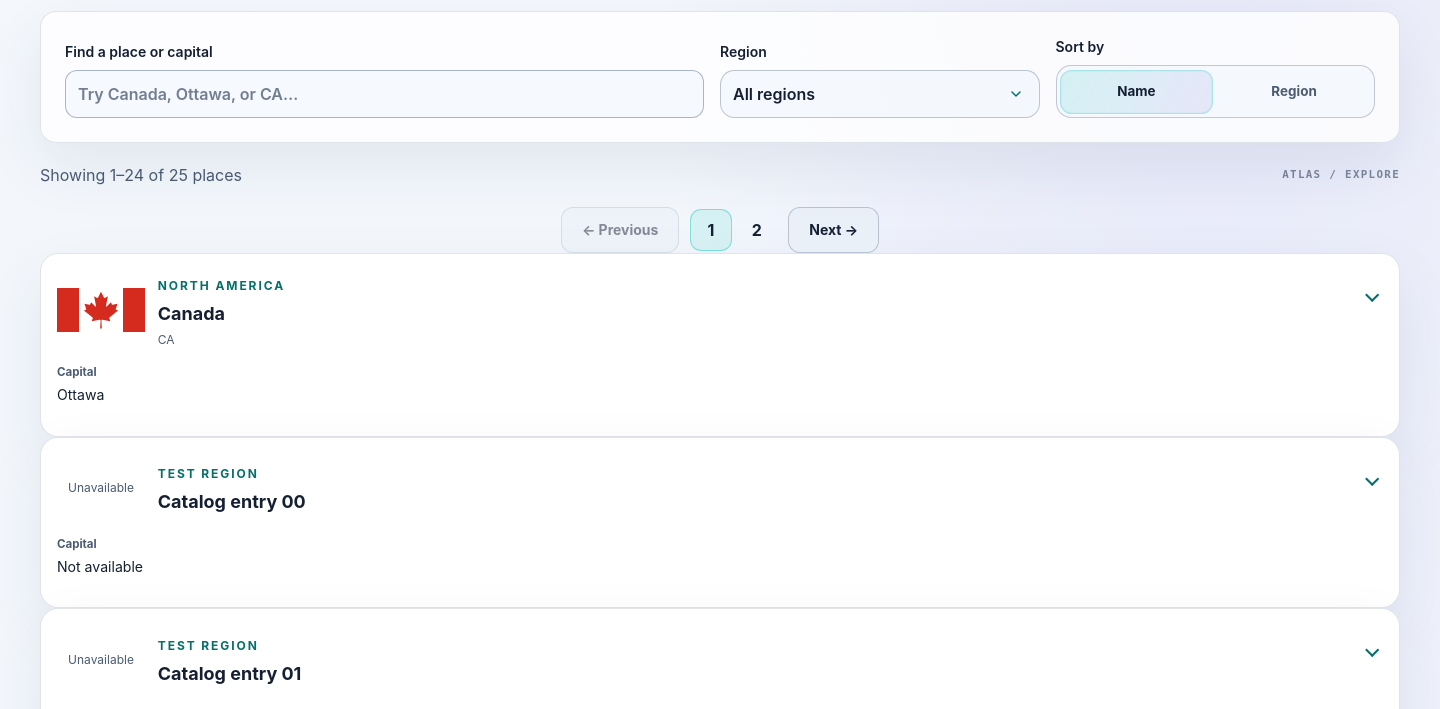
Test: resolves neighbor codes from the full catalog and navigates within Explorer
Expected: the text "Showing 1–24 of 25 places" is shown, x1=40 y1=163 x2=242 y2=187
Click the heading "North America Canada CA Capital Ottawa" at [171, 341], box x1=57 y1=278 x2=285 y2=403
(page scrolled)
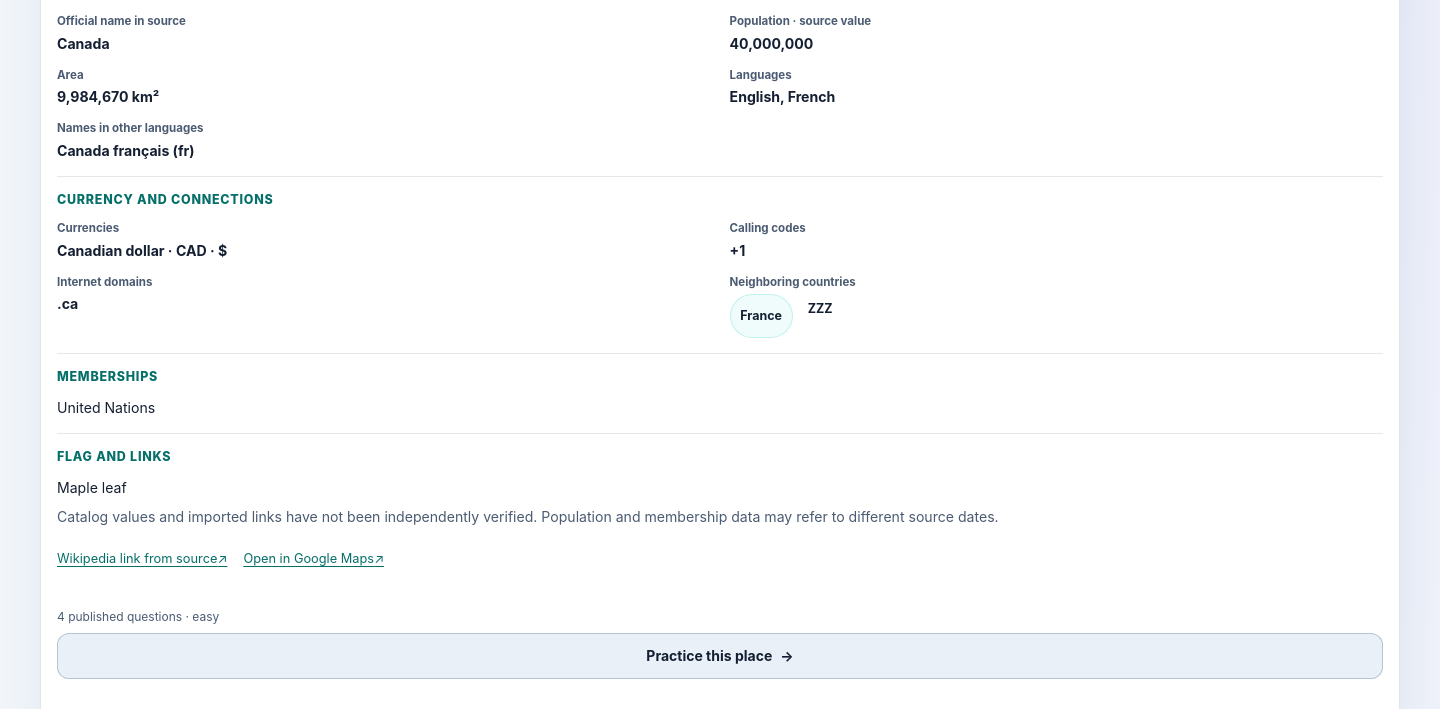
Now the text "ZZZ" is shown, box x1=808 y1=301 x2=832 y2=316
Click the link with aria-label "Find France in the catalog (FRA)" at [761, 316], box x1=730 y1=294 x2=792 y2=338
(page scrolled)
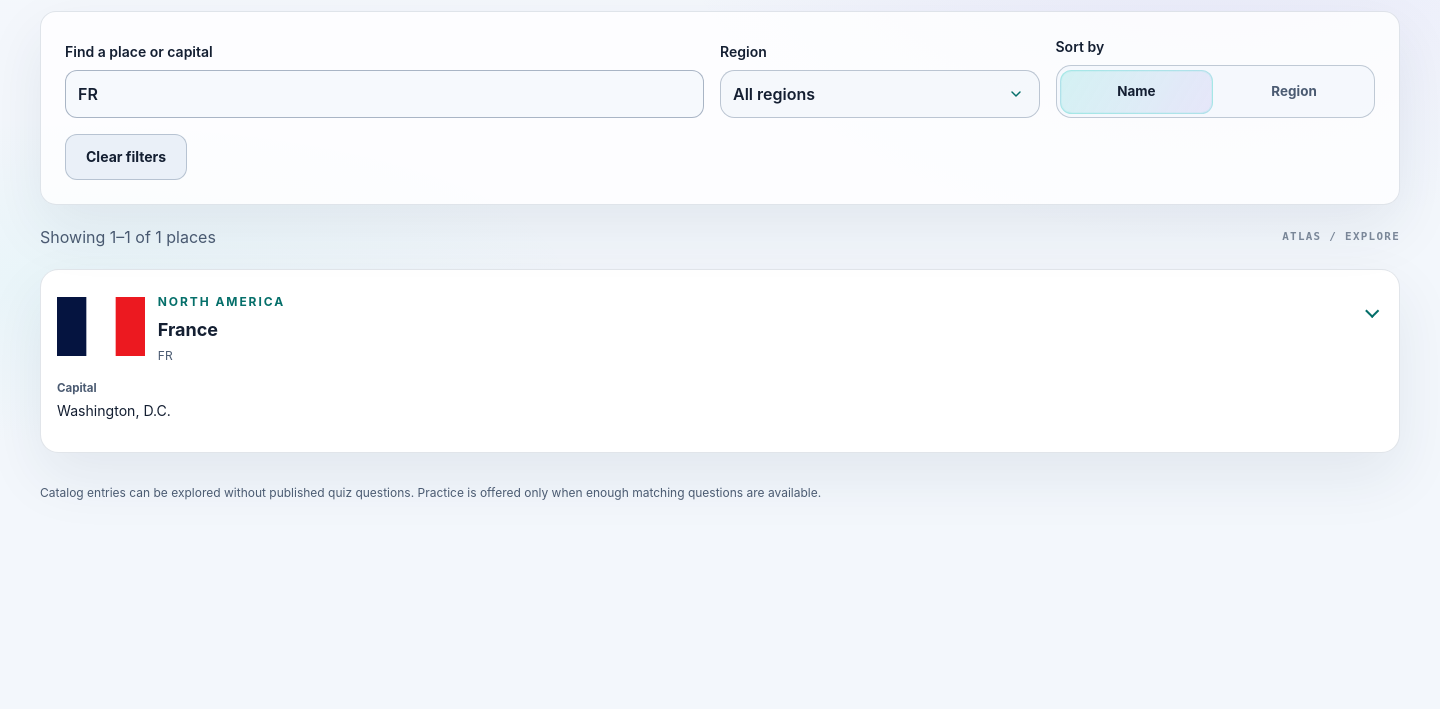
Now the heading "France" is shown, box x1=158 y1=319 x2=218 y2=340
Now the search field with placeholder "Try Canada, Ottawa, or CA…" holds "FR", box x1=65 y1=70 x2=704 y2=118
Now the text "Showing 1–1 of 1 places" is shown, box x1=40 y1=225 x2=216 y2=249
